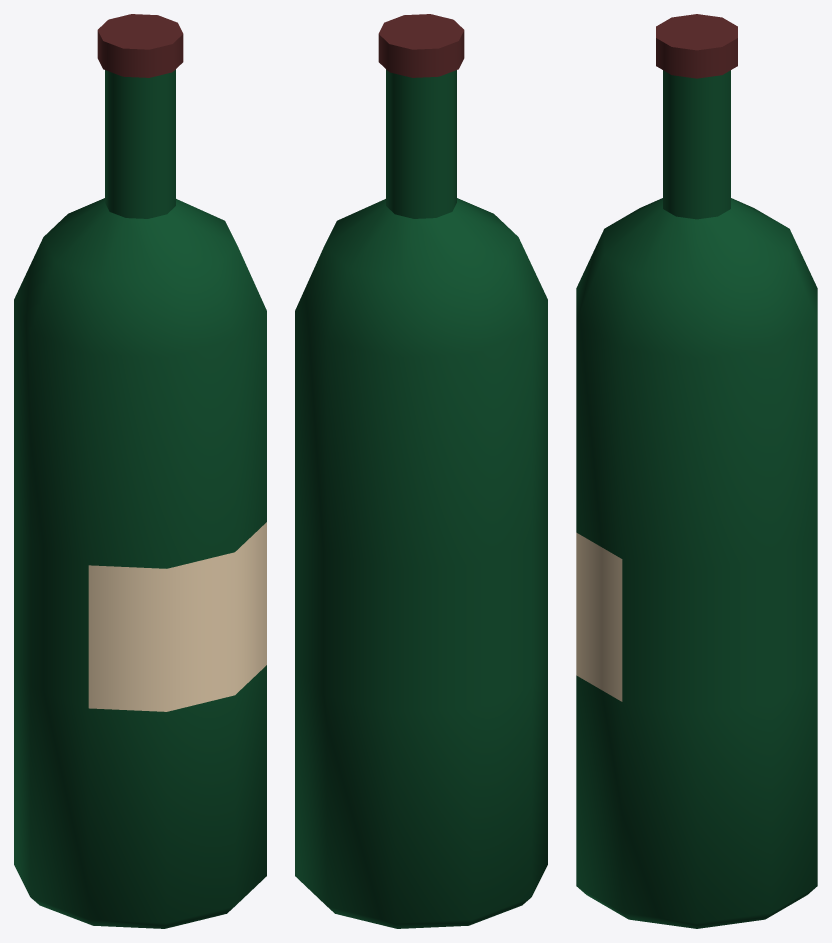
File: Wine_Bottle.fbx
3 renders of one model, left to right at view 1: azimuth 30°, elevation 25°; view 2: azimuth 150°, elevation 25°; view 3: azimuth 270°, elevation 25°, orthographic.
Visible parts, largest first — view 1: Wine_Bottle; view 2: Wine_Bottle; view 3: Wine_Bottle.
Part boxes in pixels (left/top/right/bottom): Wine_Bottle: left=14, top=14, right=266, bottom=928; Wine_Bottle: left=295, top=14, right=547, bottom=928; Wine_Bottle: left=576, top=14, right=817, bottom=928.
Size of the model in its own units: 53.55 by 197 by 50.93.
